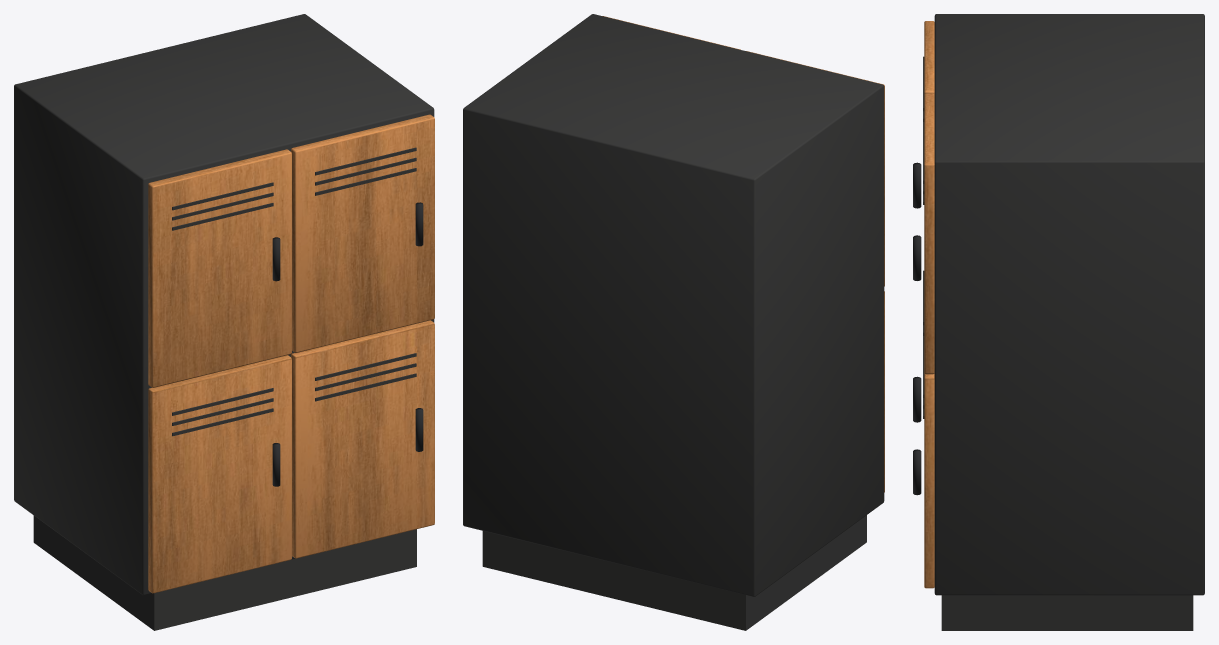
The model's file is storage.small-locker-2x2.glb.
3 views of the same model, side by side, from view 1: azimuth 30°, elevation 25°; view 2: azimuth 150°, elevation 25°; view 3: azimuth 270°, elevation 25° (orthographic). The views are drawn at different scales.
Parts seen in each view (by area): view 1: storage.small-locker-2x2.001; view 2: storage.small-locker-2x2.001; view 3: storage.small-locker-2x2.001.
Boxes of the visible parts, x1=… form: storage.small-locker-2x2.001: x1=14, y1=14, x2=434, y2=630; storage.small-locker-2x2.001: x1=463, y1=14, x2=884, y2=630; storage.small-locker-2x2.001: x1=913, y1=14, x2=1204, y2=630.
Size of the model in its own units: 0.6 by 0.9 by 0.499.
Materials: 3 (1 with a texture image).
